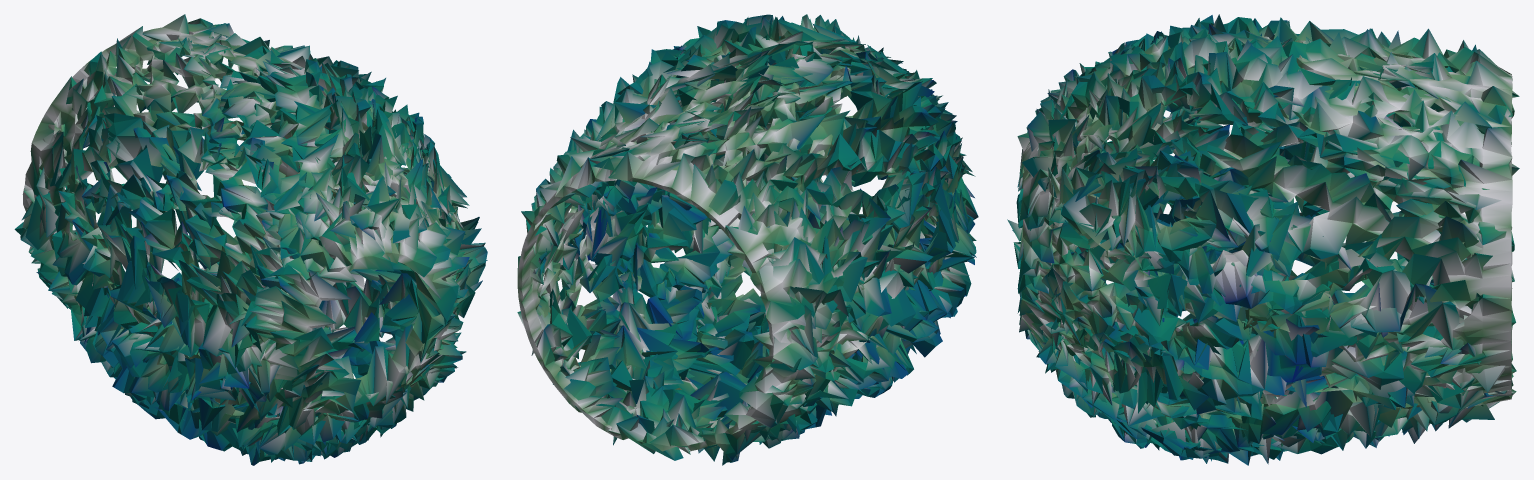
Rendered from lamp_shade_14_final300.obj.
The picture shows the model from 3 angles, left to right: view 1: azimuth 30°, elevation 25°; view 2: azimuth 150°, elevation 25°; view 3: azimuth 270°, elevation 25°; orthographic projection. The views are drawn at different scales.
Size of the model in its own units: 1.37 by 1.37 by 1.56.
